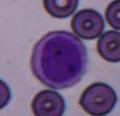M: (30, 29, 88, 89)
